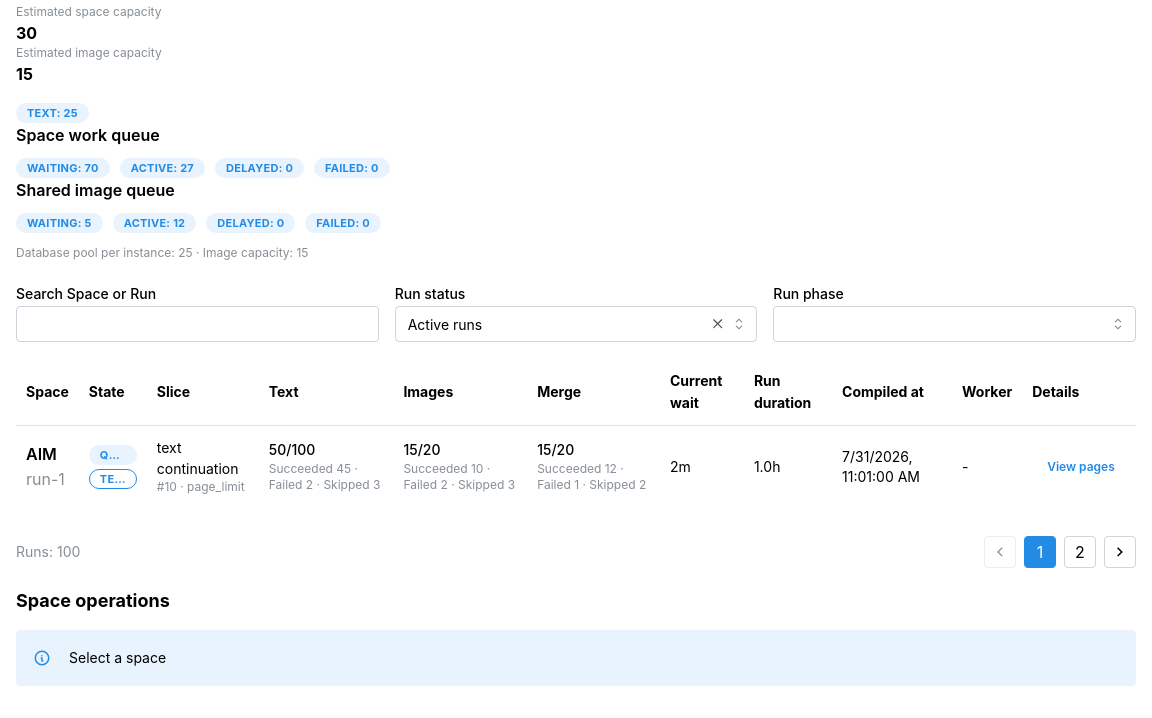
KnowledgeAdminPage › shows bounded Run diagnostics and loads RunPages only on demand
This screenshot has width=1152, height=718.
(page scrolled)
Expected: the text "text continuation" is shown, [157, 438, 249, 479]
Expected: the text "50/100" is shown, [269, 441, 315, 458]
Click the button "View pages" at (1081, 467), box [1032, 452, 1130, 482]
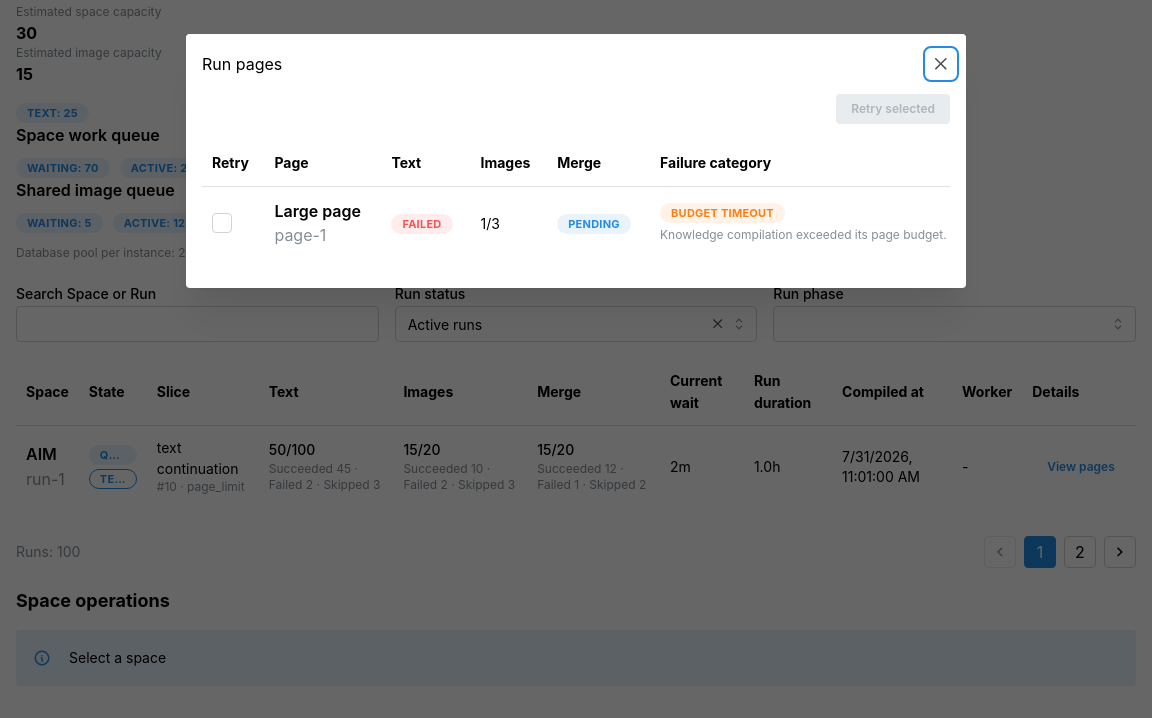
Expected: the text "Large page" is shown, [274, 199, 371, 224]
Expected: the text "budget timeout" is shown, [671, 204, 774, 222]
